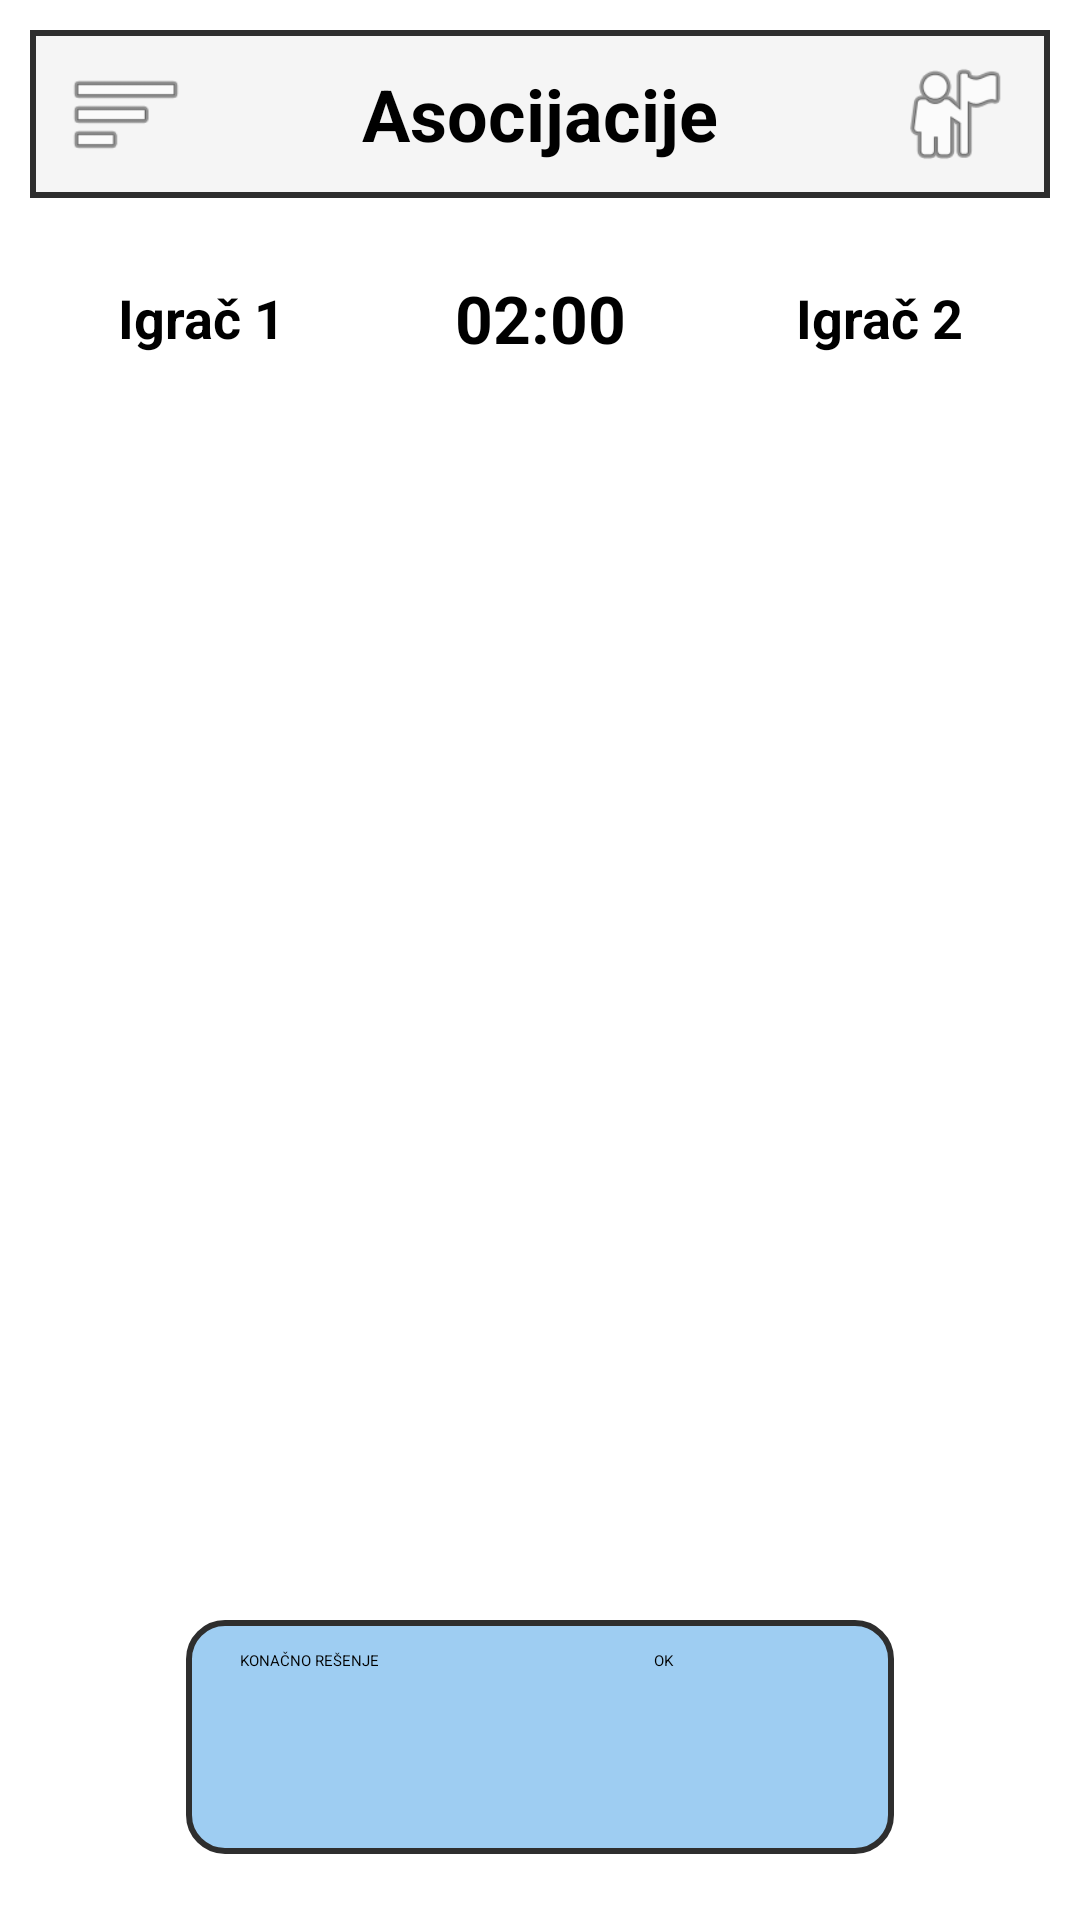

Where icons sit on this 1080*1920 app screen, as [x1, y1, x2, y2]:
myplaces: [910, 69, 1000, 159]
sort by size: [74, 81, 178, 148]
